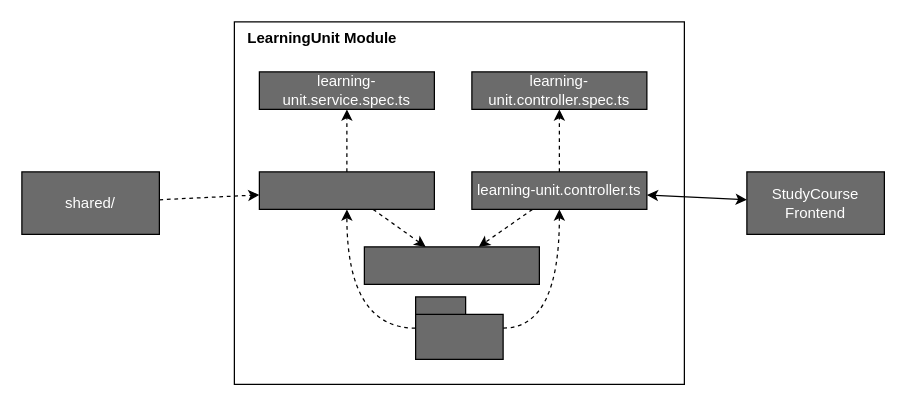
Image size: 906x406. Some labels were removed from this diagram. The box of each missing label's shape, as (x1, y1, x2, y2) in pixels:
dto/: (414, 296, 503, 359)
learning-unit.module.ts: (363, 246, 539, 284)
learning-unit.service.ts: (258, 171, 434, 209)
